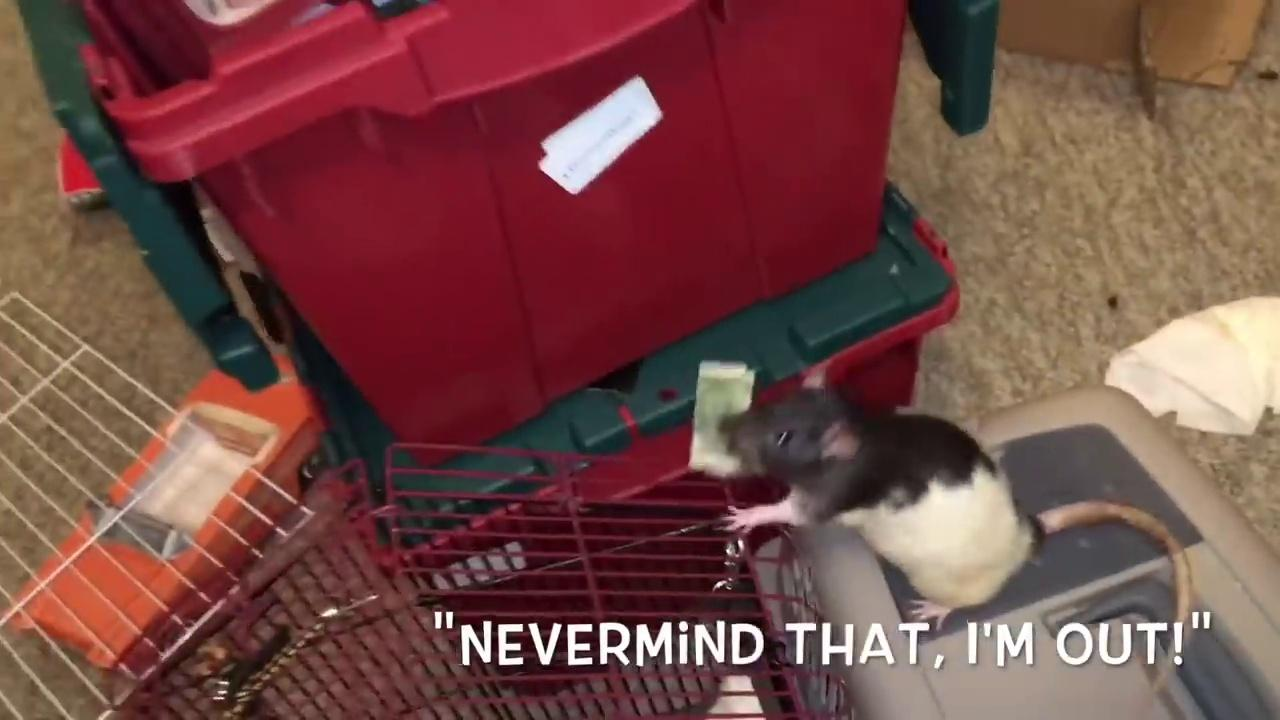rat: (718, 356, 1194, 616)
